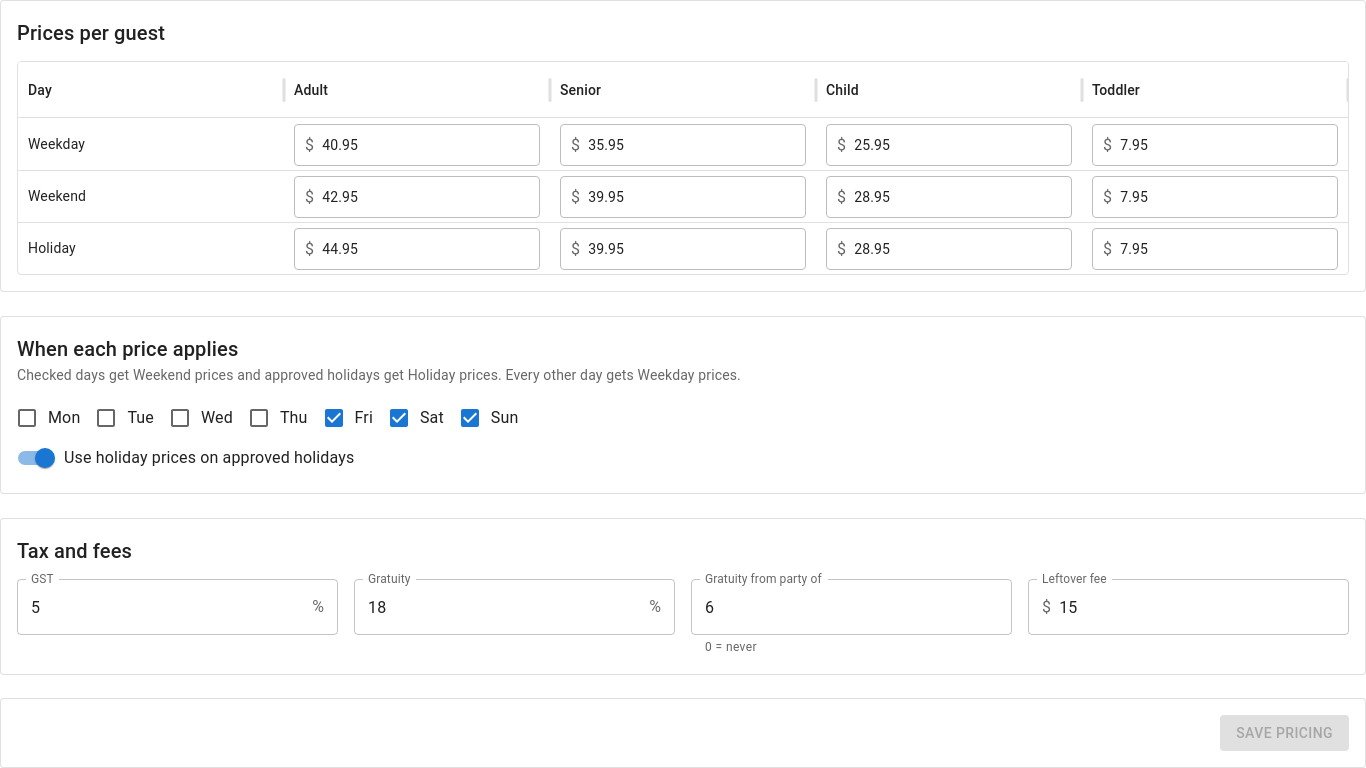
Test: PricingProfileForm › doesn't save GST over 100%
Replace the text in the number field labelled "GST" with "150" at [161, 607], box [17, 579, 304, 635]
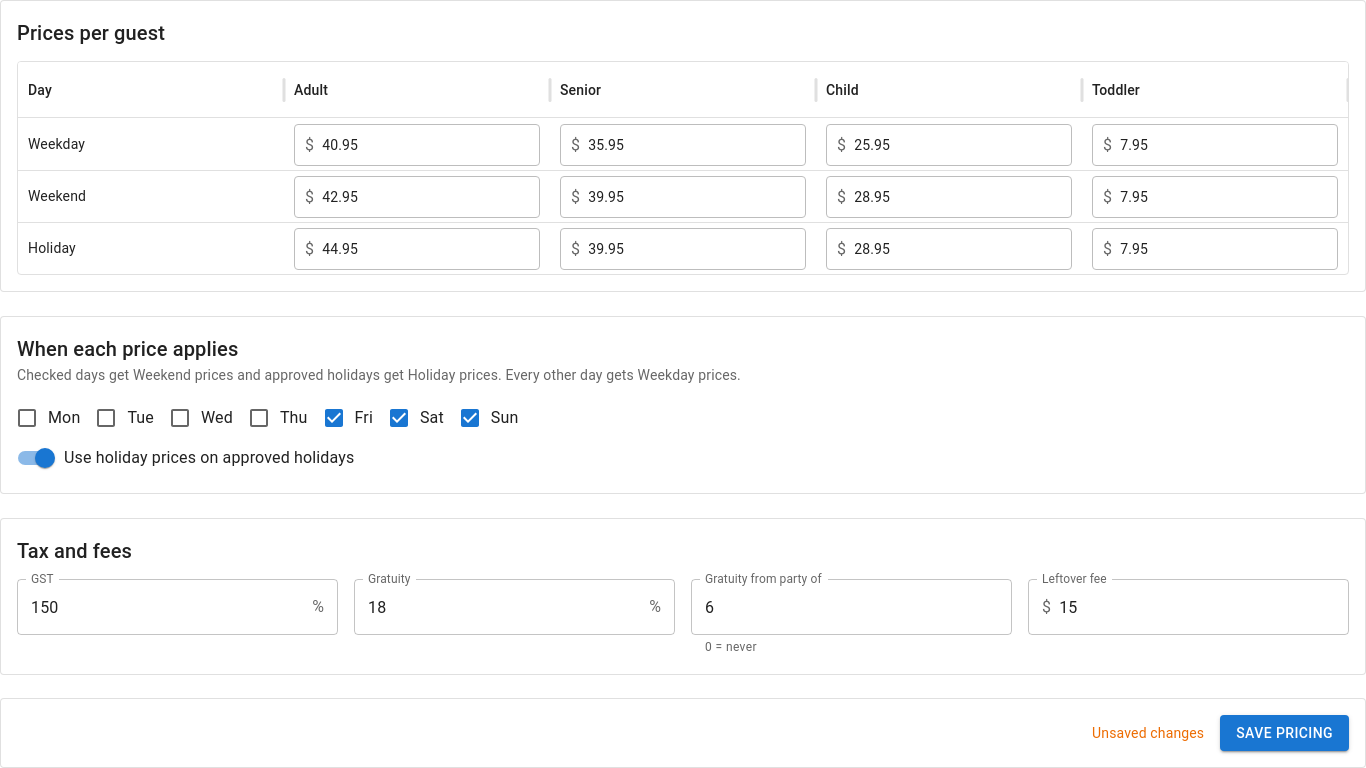
Click the button "Save pricing".
click(1285, 733)  # box [1220, 714, 1349, 751]
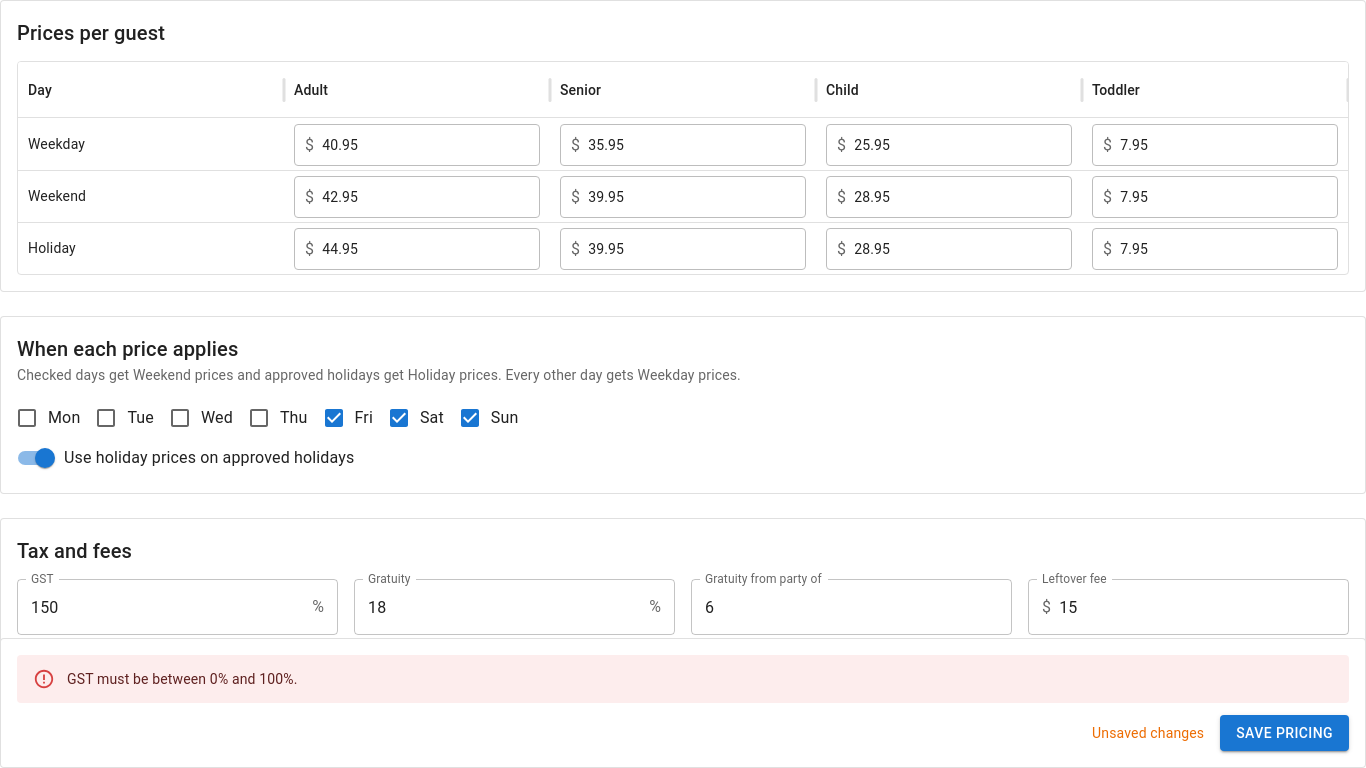
Now the text "GST must be between 0% and 100%." is shown, box [67, 670, 298, 686]
